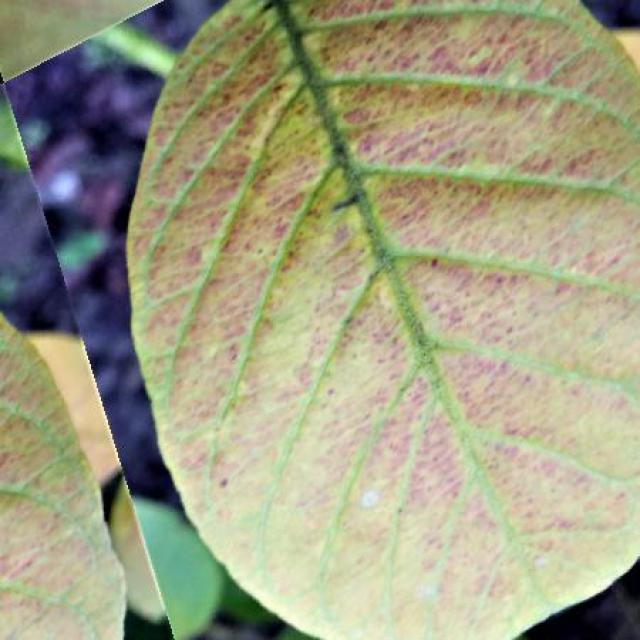Red Rust: (128, 0, 640, 640)
